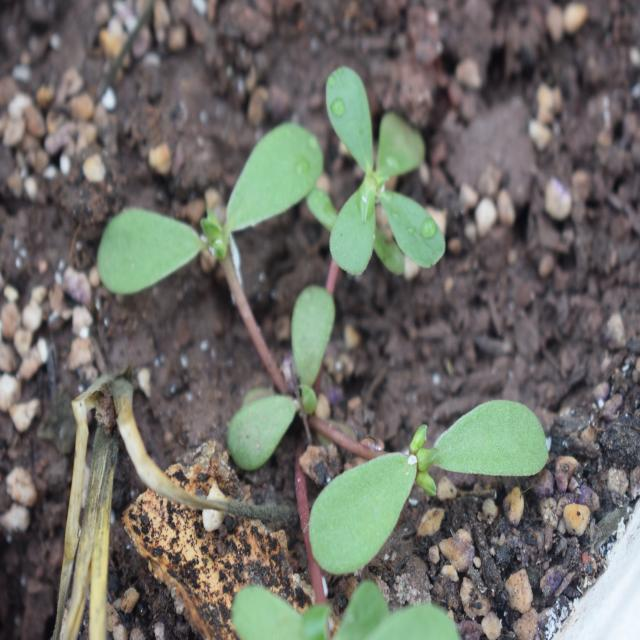purslane: (120, 80, 553, 584)
